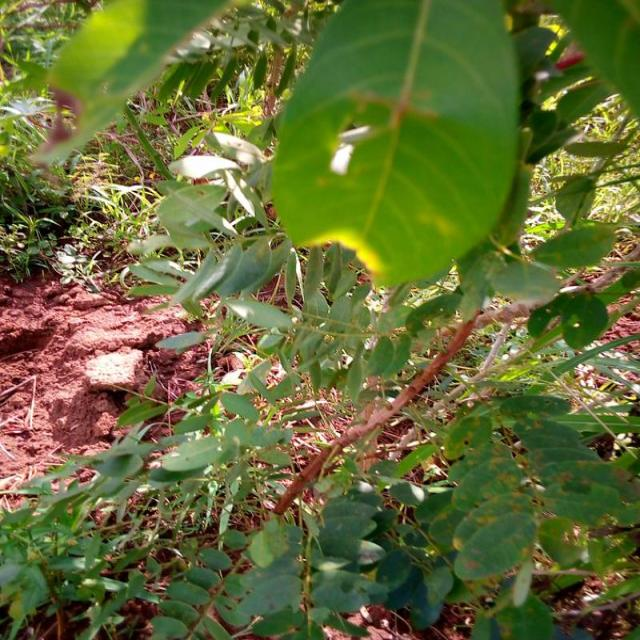cassava leaf: (269, 0, 522, 289)
